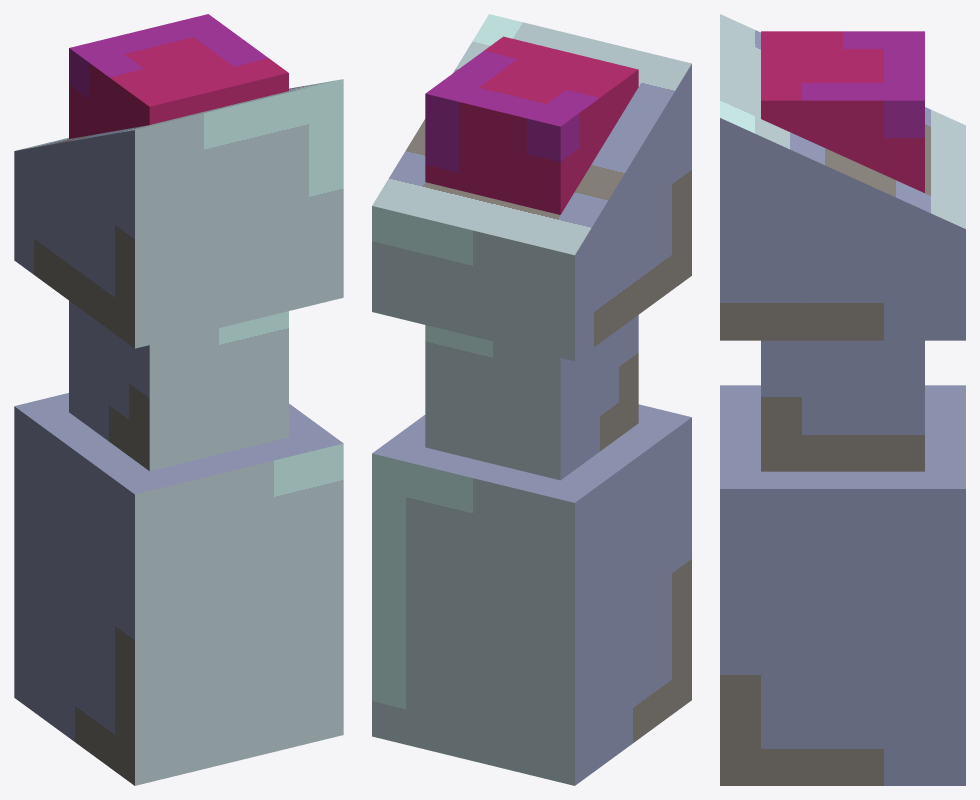
The model's file is button.gltf.
3 renders of one model, left to right at view 1: azimuth 30°, elevation 25°; view 2: azimuth 150°, elevation 25°; view 3: azimuth 270°, elevation 25°, orthographic. The views are drawn at different scales.
Parts seen in each view (by area): view 1: cuboid (×2); view 2: cuboid (×2); view 3: cuboid (×2).
Boxes of the visible parts, x1,y1,x2,y2 form: cuboid (×2): [14, 14, 343, 785]; cuboid (×2): [372, 14, 691, 785]; cuboid (×2): [720, 14, 965, 785].
Size of the model in its own units: 0.375 by 1.12 by 0.375.
Materials: 1 (1 with a texture image).
